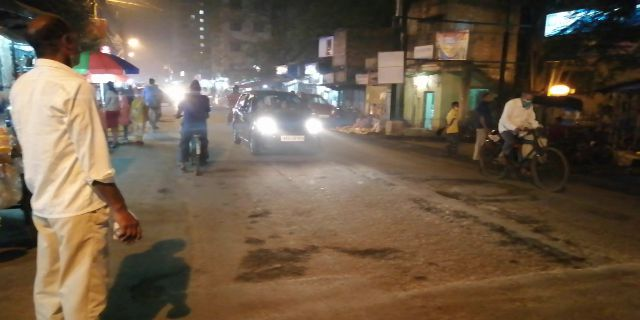Car: (239, 81, 329, 162)
Cycle: (173, 79, 213, 175)
